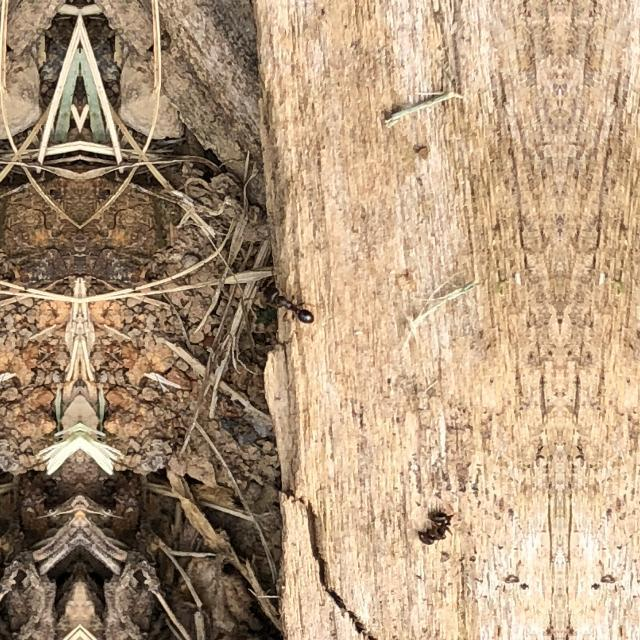Tetramorium: (257, 268, 319, 329)
